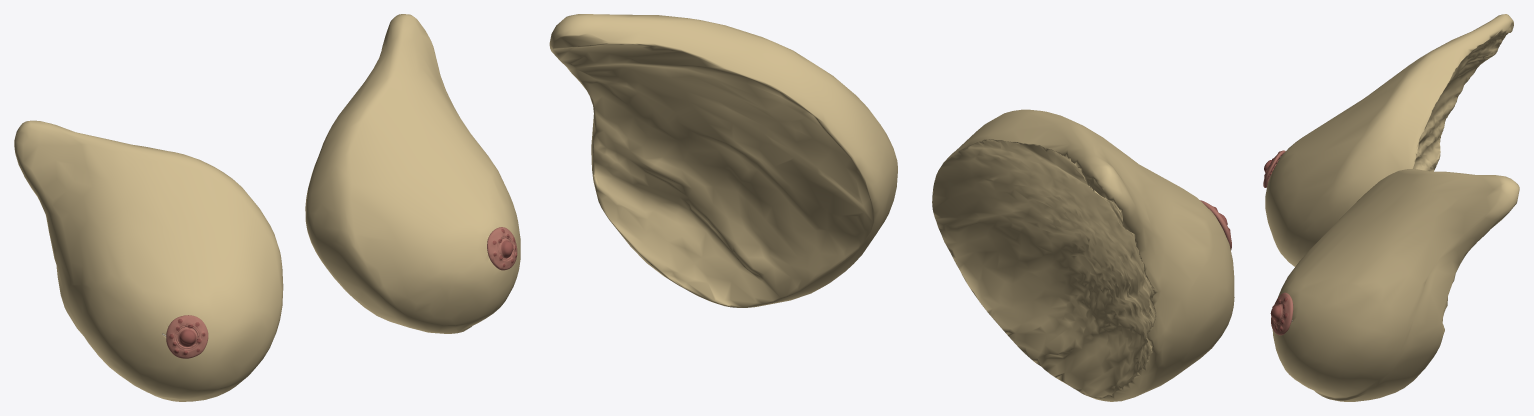
Rendered from breasts.glb.
3 renders of one model, left to right at view 1: azimuth 30°, elevation 25°; view 2: azimuth 150°, elevation 25°; view 3: azimuth 270°, elevation 25°, orthographic. The views are drawn at different scales.
Parts seen in each view (by area): view 1: k1, k0, k3, k2; view 2: k0, k1; view 3: k0, k1, k2.
Part boxes in pixels (x1,y1,x2,y2): k1: (14,120,283,401); k0: (305,14,520,333); k3: (166,315,208,358); k2: (487,227,517,270); k0: (549,14,897,307); k1: (932,109,1234,401); k0: (1272,169,1519,401); k1: (1265,14,1513,266); k2: (1271,292,1293,335).
Bounding box in the file's own units: 28.12 × 15.58 × 15.02.
